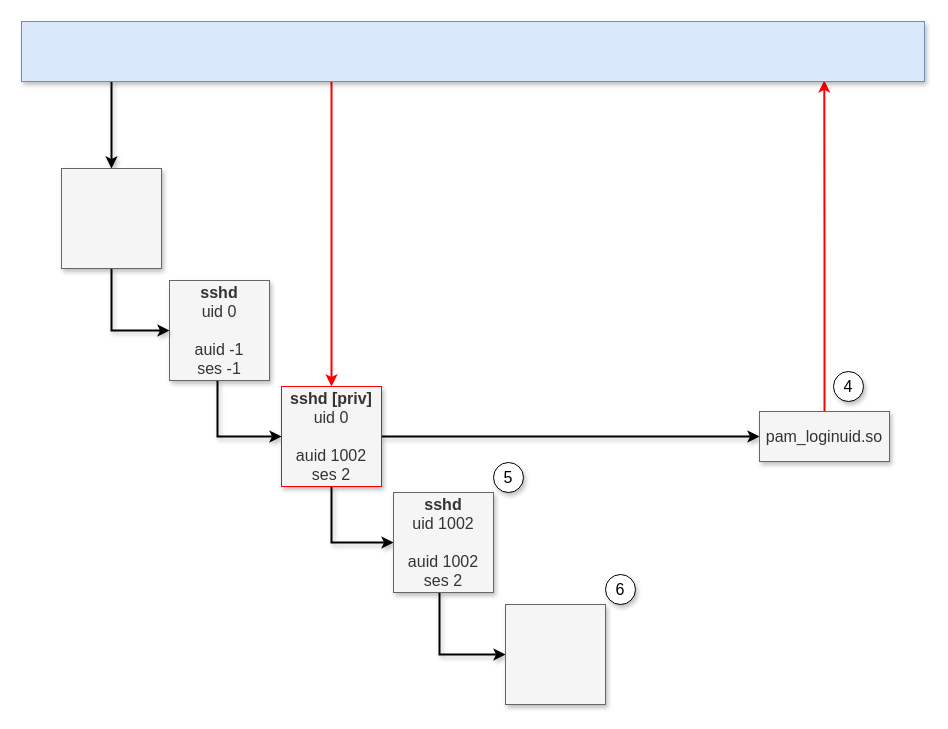
Some shapes in this 948 by 729 pixel diagram are drawn without their labels. Here are the shapes that lost their labels. From the top down, the centre of each, then its label:
At (x=473, y=52): "Ядро".
At (x=112, y=220): "init/systemd uid 0 auid -1 ses -1".
At (x=556, y=656): "bash uid 1002 auid 1002 ses 2".
